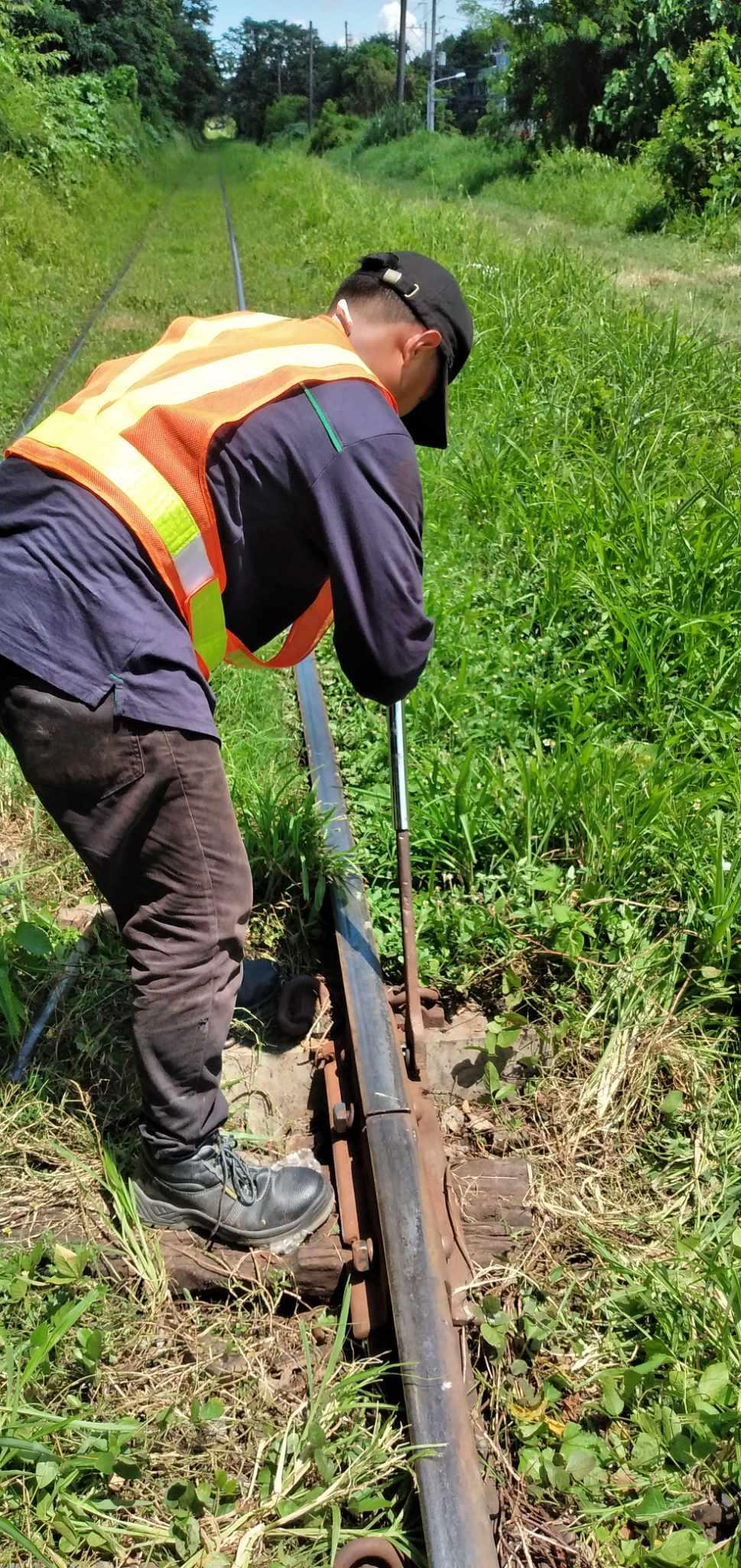railway-gap: (342, 1071, 433, 1164)
